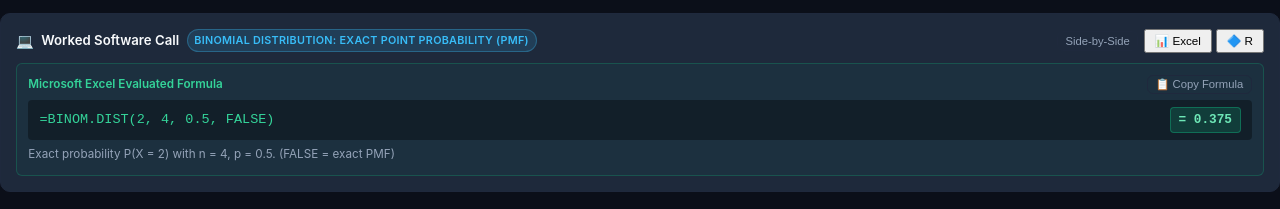
Scenario: WorkedSoftwareCallBox › switches to R tab and displays dbinom code with evaluated result
This screenshot has width=1280, height=209.
Click the tab "🔷 R".
click(1240, 41)  # box 1216,29 -> 1264,53
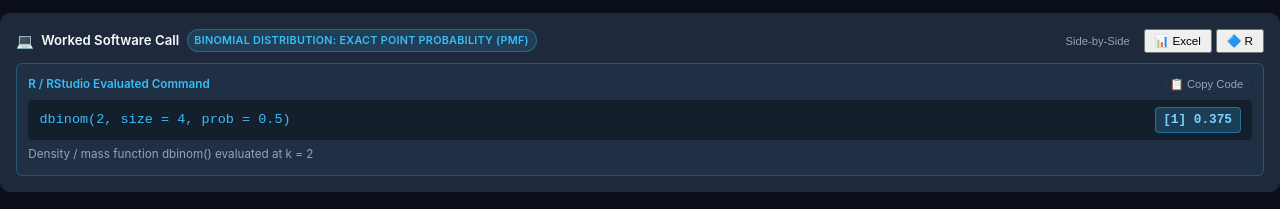
Expected: the text "dbinom(2, size = 4, prob = 0.5)" is shown, 40,110 -> 291,130
Expected: the text "[1] 0.375" is shown, 1155,107 -> 1240,133
